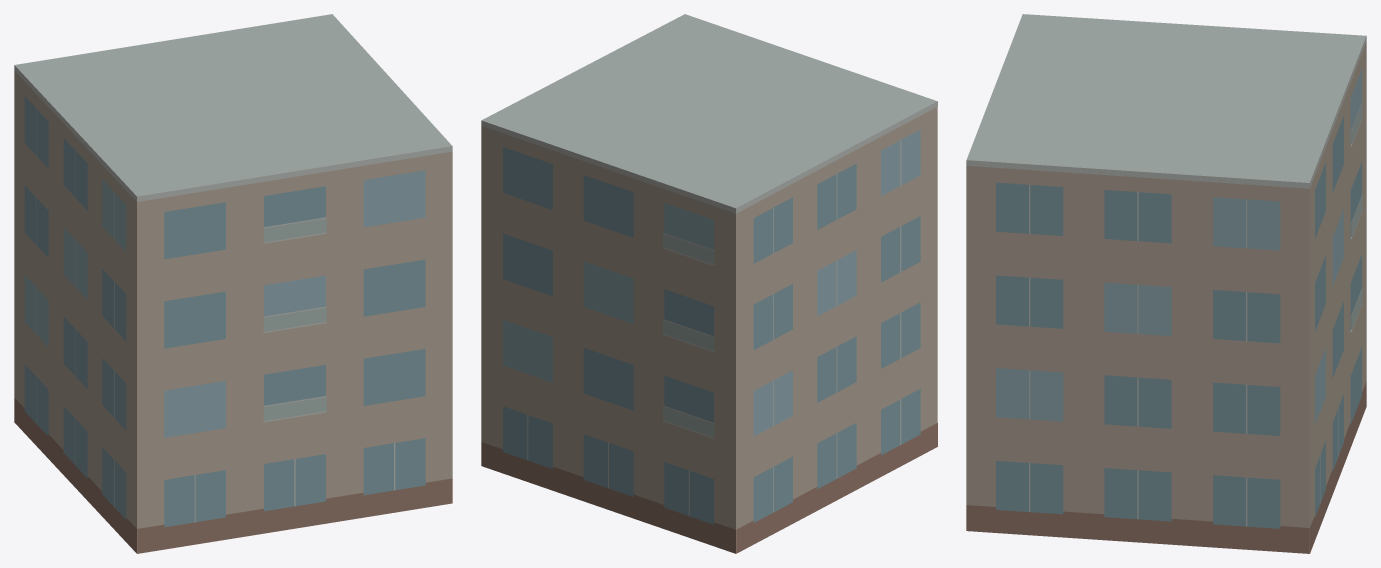
File: survey-upis-32500589.glb
3 views of the same model, side by side, from view 1: azimuth 30°, elevation 25°; view 2: azimuth 150°, elevation 25°; view 3: azimuth 270°, elevation 25° (orthographic). The views are drawn at different scales.
Visible parts, largest first — view 1: survey-upis-32500589.tmp; view 2: survey-upis-32500589.tmp; view 3: survey-upis-32500589.tmp.
Part boxes in pixels (x1=…): survey-upis-32500589.tmp: x1=14, y1=14, x2=452, y2=553; survey-upis-32500589.tmp: x1=481, y1=14, x2=937, y2=553; survey-upis-32500589.tmp: x1=966, y1=14, x2=1366, y2=553.
Size of the model in its own units: 15.53 by 15.88 by 15.54.
